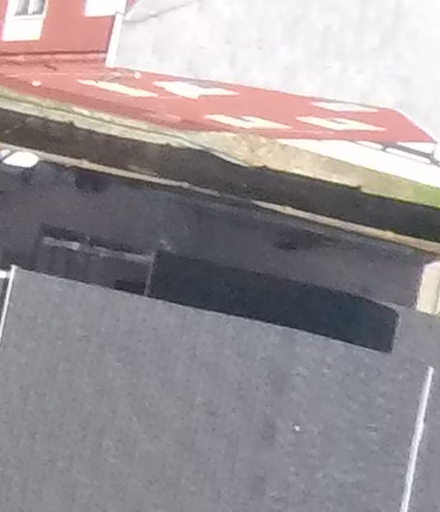trash bin: (22, 160, 58, 186)
